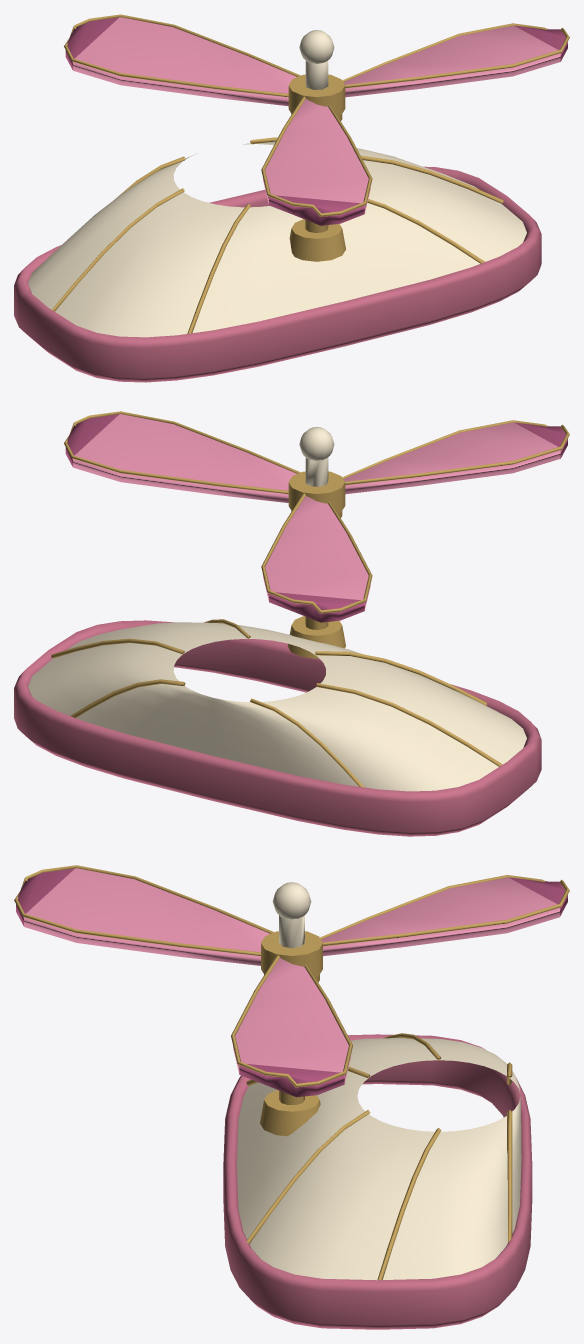
File: glide-threshold-beanie.glb
The picture shows the model from 3 angles, top to bottom: view 1: azimuth 30°, elevation 25°; view 2: azimuth 150°, elevation 25°; view 3: azimuth 270°, elevation 25°; orthographic projection. The views are drawn at different scales.
Parts seen in each view (by area): view 1: glide-threshold-beanie, spin; view 2: glide-threshold-beanie, spin; view 3: glide-threshold-beanie, spin.
Part boxes in pixels (box(x1,y1,x2,y2)): glide-threshold-beanie: box(14, 114, 541, 382); spin: box(64, 14, 569, 225); glide-threshold-beanie: box(14, 511, 541, 836); spin: box(64, 411, 569, 622); glide-threshold-beanie: box(223, 974, 532, 1329); spin: box(14, 865, 569, 1097).
Size of the model in its own units: 0.568 by 0.332 by 0.5182.
